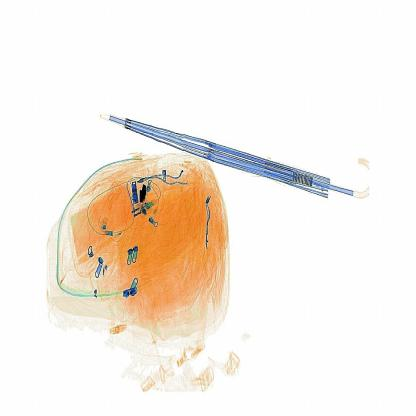knife: (134, 175, 166, 214)
